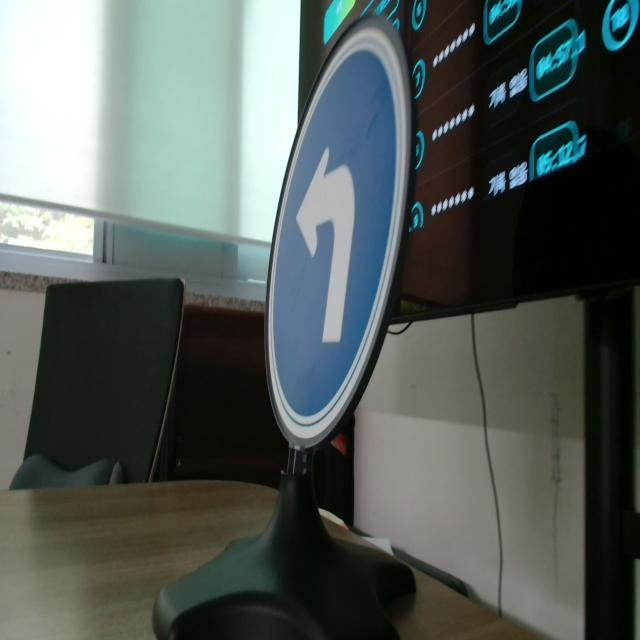left_direction: (241, 1, 444, 463)
